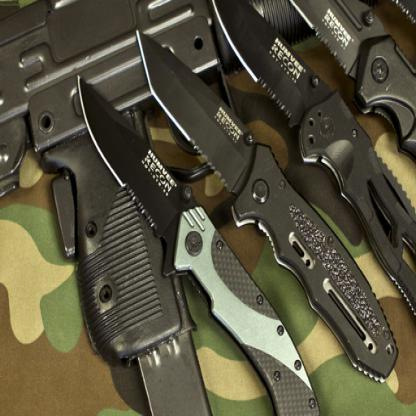knife: (124, 21, 398, 386), (72, 67, 325, 415), (203, 0, 416, 357), (248, 0, 415, 286), (319, 0, 415, 208)
